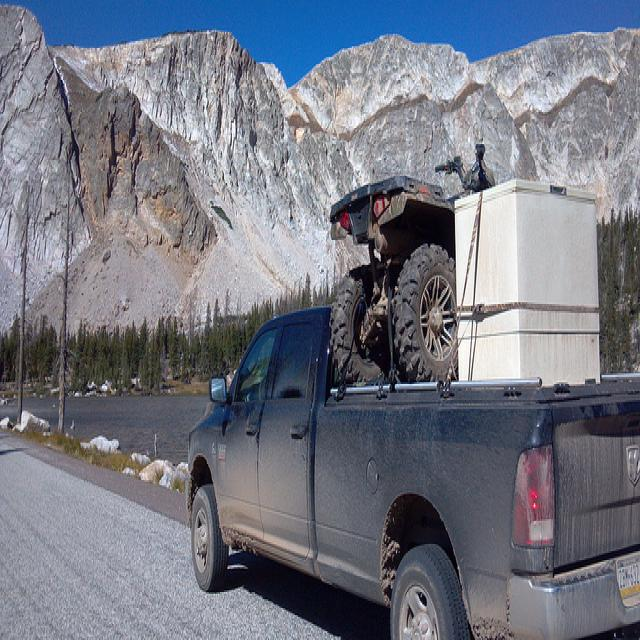motor: (321, 137, 500, 388)
